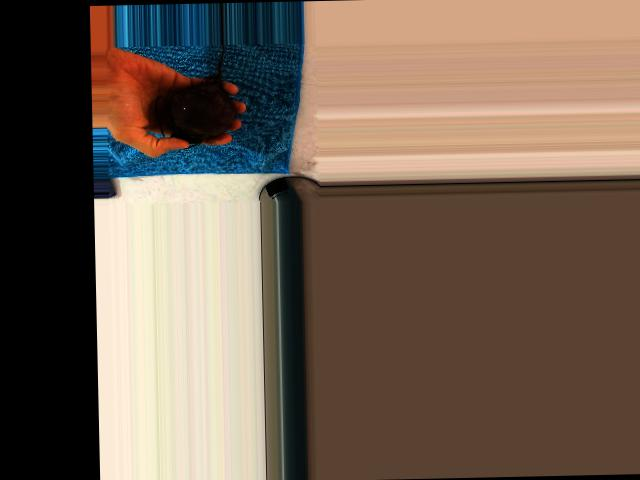beet: (154, 43, 236, 148)
